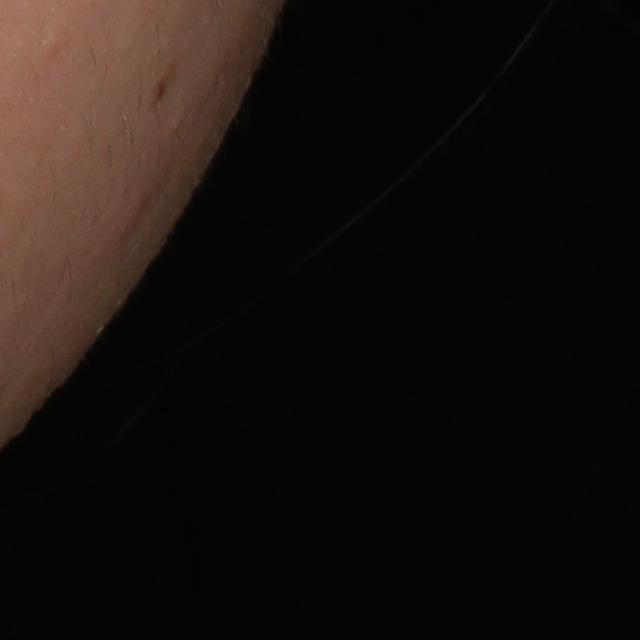nevus: (146, 65, 179, 110)
